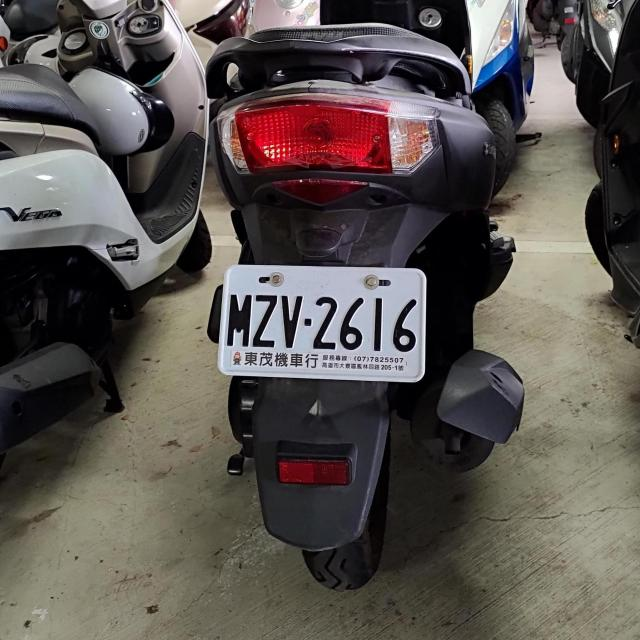W: (218, 263, 426, 383)
